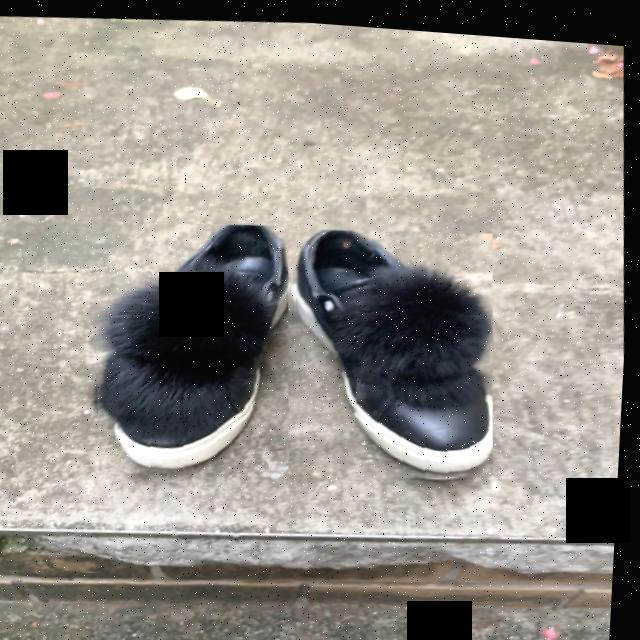shoe: (297, 225, 497, 472), (101, 221, 291, 471)
